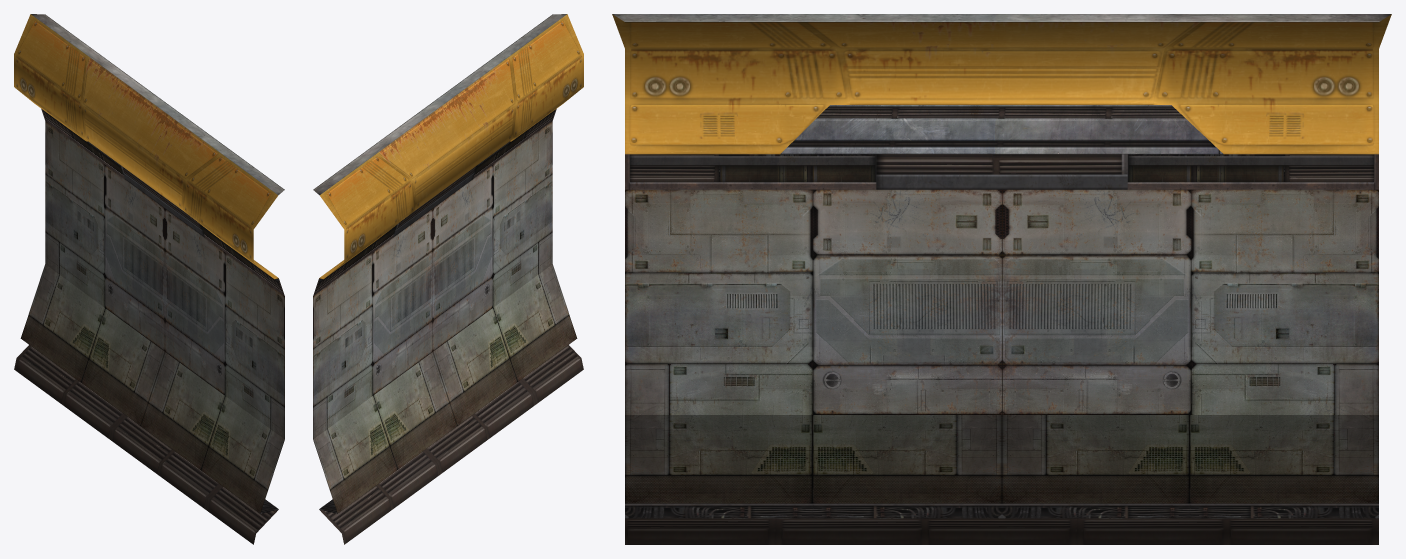
Rendered from ARC_WallSideA_01.FBX.
The picture shows the model from 3 angles, left to right: view 1: azimuth 30°, elevation 25°; view 2: azimuth 150°, elevation 25°; view 3: azimuth 270°, elevation 25°; orthographic projection. The views are drawn at different scales.
Visible parts, largest first — view 1: ARC_WallSideA_01; view 2: ARC_WallSideA_01; view 3: ARC_WallSideA_01.
Part boxes in pixels (x1,y1,x2,y2): ARC_WallSideA_01: (14,14,284,544); ARC_WallSideA_01: (313,14,583,544); ARC_WallSideA_01: (612,14,1391,544).
Bounding box in the file's own units: 37.63 × 400 × 517.
1 material, 1 textured.
